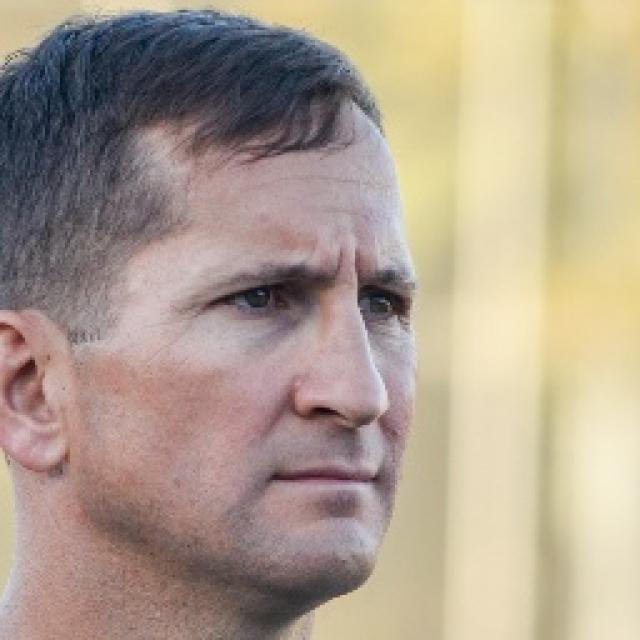earlobe: (24, 419, 70, 473)
eye: (207, 284, 291, 314), (354, 292, 406, 318)
nose: (294, 405, 384, 456)
wholeear: (0, 309, 72, 473)
